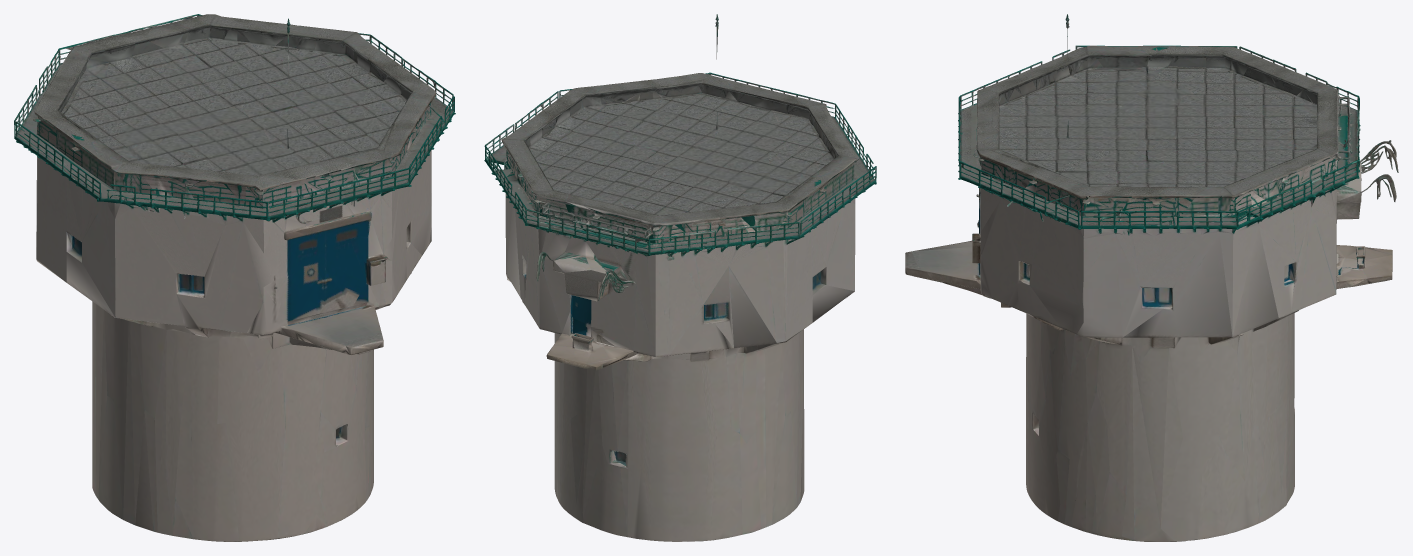
The model's file is intaketower.glb.
3 renders of one model, left to right at view 1: azimuth 30°, elevation 25°; view 2: azimuth 150°, elevation 25°; view 3: azimuth 270°, elevation 25°, orthographic. The views are drawn at different scales.
Parts seen in each view (by area): view 1: output_unwrapped; view 2: output_unwrapped; view 3: output_unwrapped.
Part boxes in pixels (box(x1,y1,x2,y2)): output_unwrapped: box(14, 14, 455, 541); output_unwrapped: box(484, 14, 876, 541); output_unwrapped: box(905, 14, 1398, 541).
Size of the model in its own units: 1.44 by 1.9 by 1.79.
1 material, 1 textured.
